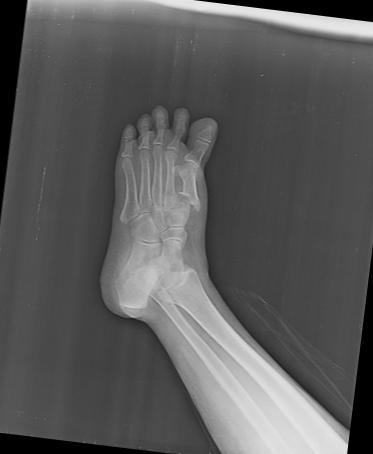fractured: (175, 185, 203, 213)
